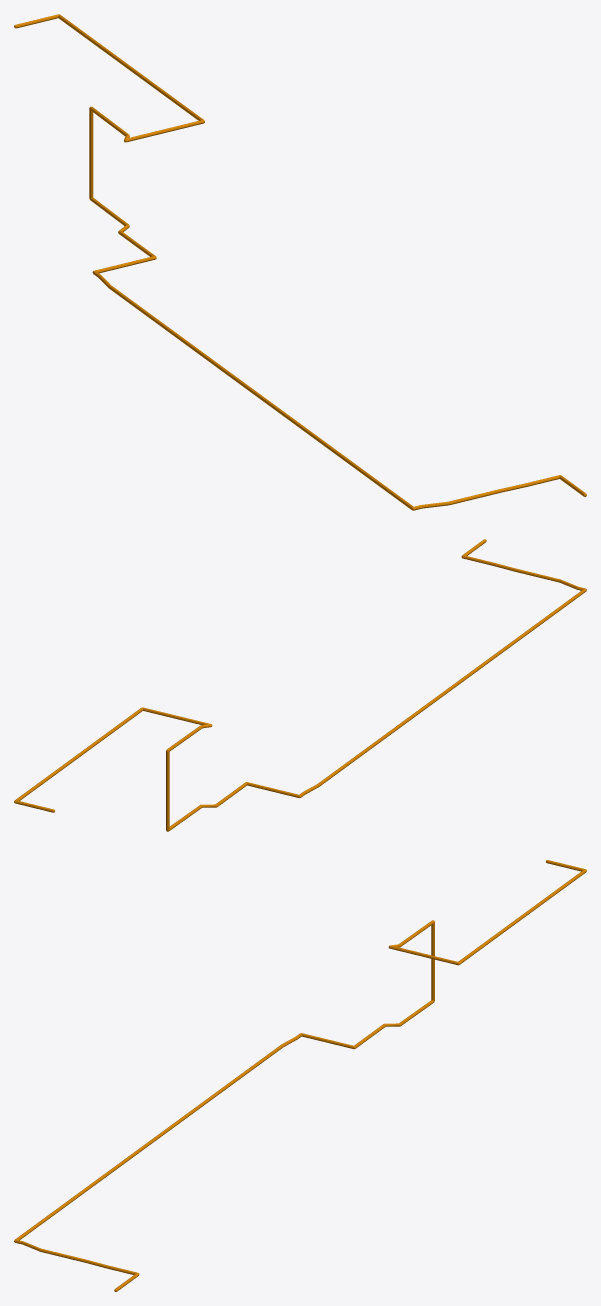
The picture shows the model from 3 angles, top to bottom: view 1: azimuth 30°, elevation 25°; view 2: azimuth 150°, elevation 25°; view 3: azimuth 330°, elevation 25°; orthographic projection. The views are drawn at different scales.
Size of the model in its own units: 871 by 520 by 5347.
